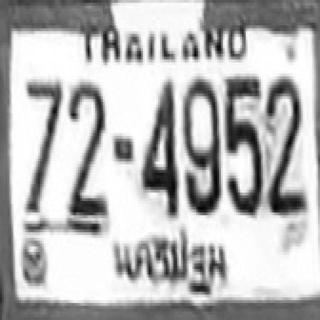N02: (67, 78, 105, 220), (265, 75, 303, 214)
N04: (139, 78, 177, 214)
N05: (223, 74, 261, 212)
N07: (23, 76, 61, 215)
N09: (181, 76, 219, 212)
P28: (109, 228, 228, 298)
